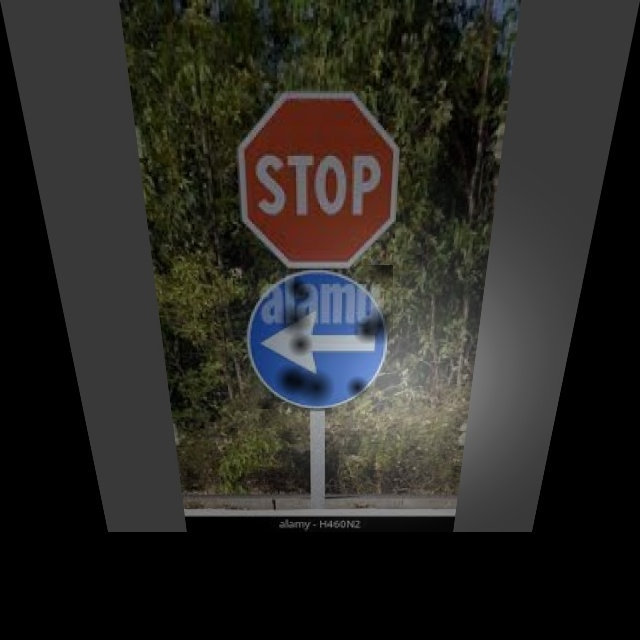Compulsory_Turn_Left: (249, 265, 393, 409)
